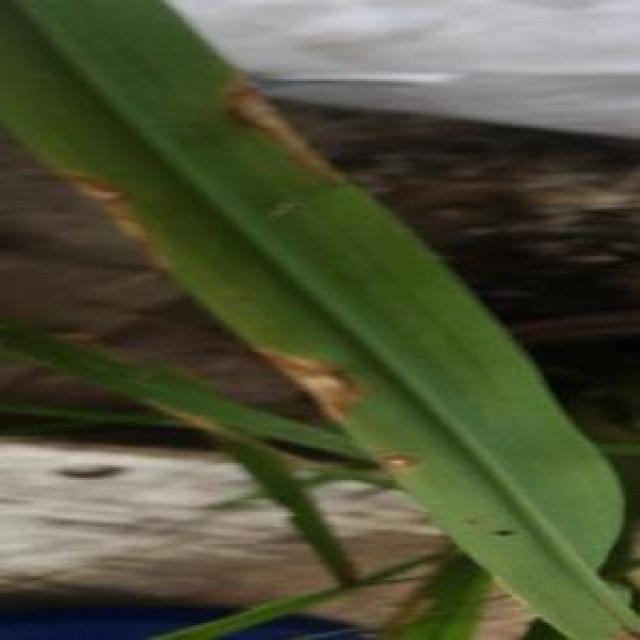Rice_Blast: (211, 63, 360, 184), (60, 158, 180, 283), (259, 336, 393, 438), (382, 451, 428, 476)
